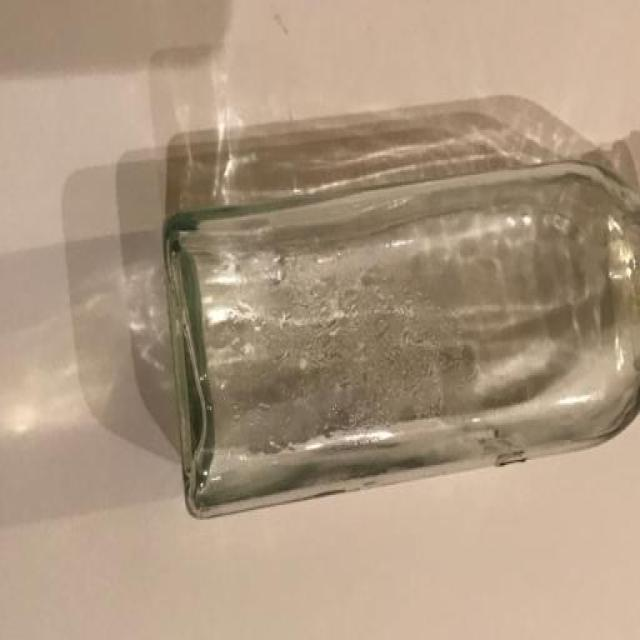glass: (164, 167, 640, 522)
